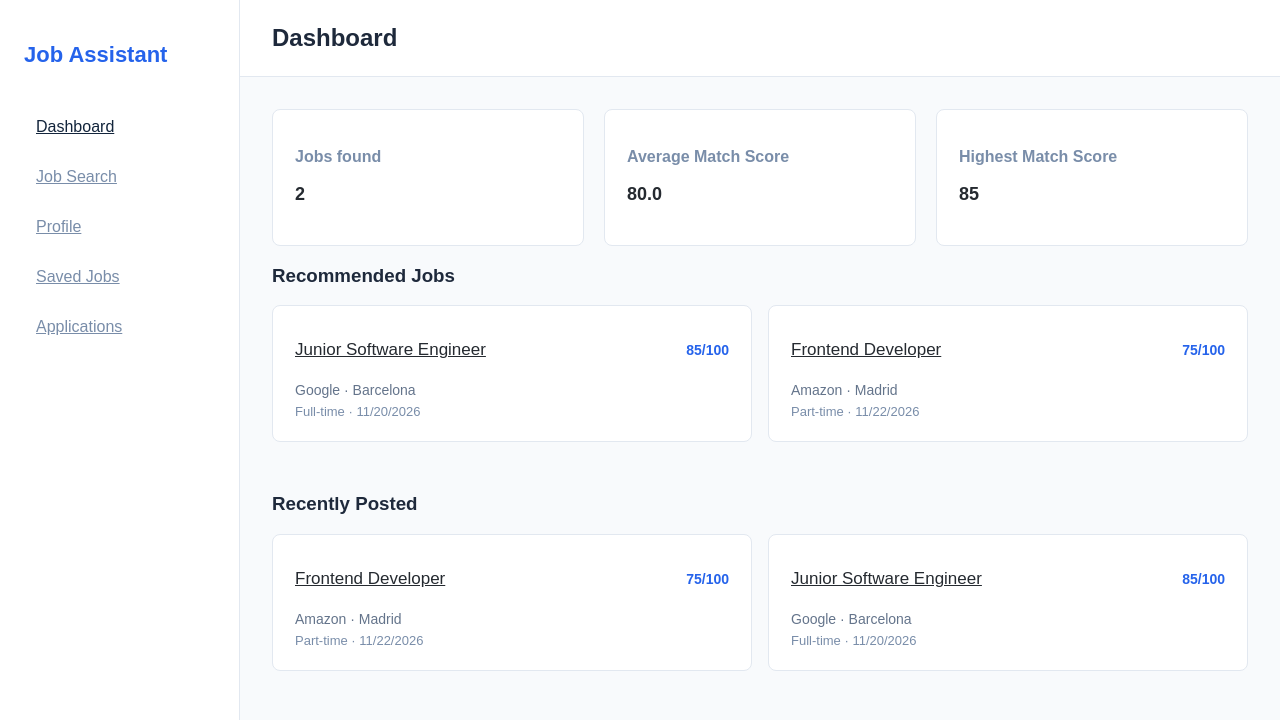
Test: App › navigates to the Profile page
Click the link "Profile".
click(59, 227)  # box [36,218,81,235]
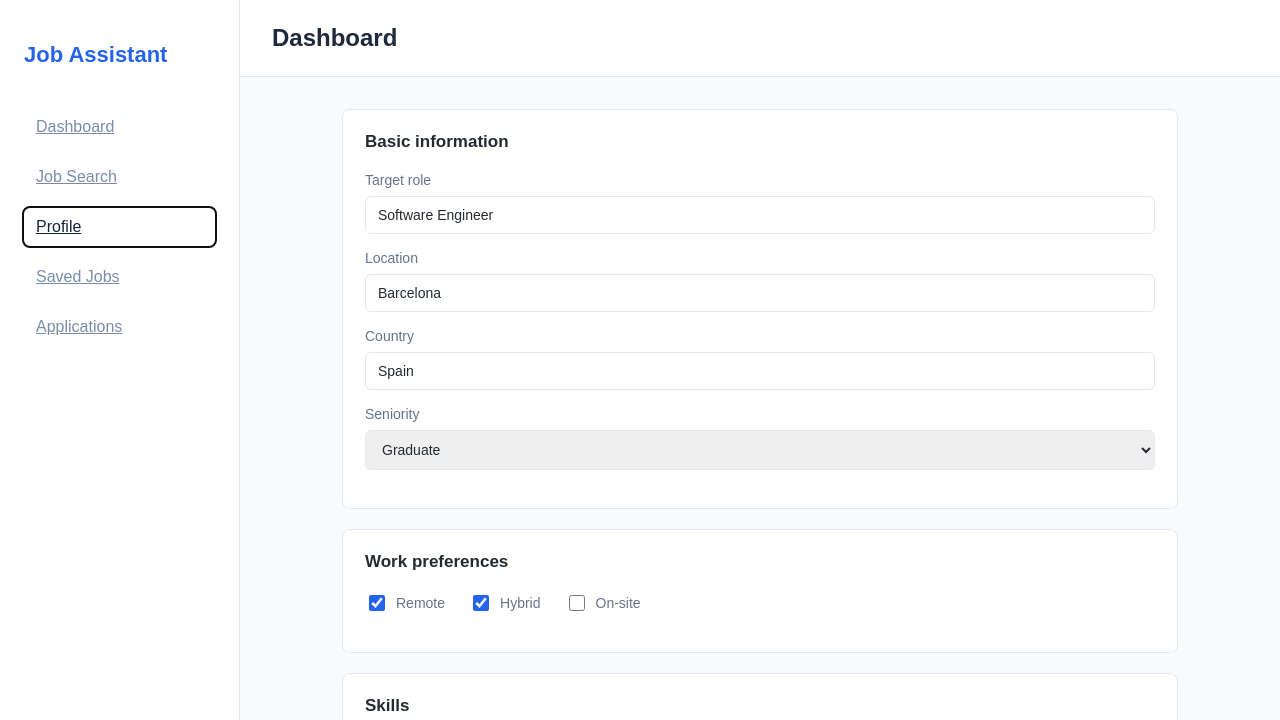
Expected: the field showing "Software Engineer" is shown, [365,196,1155,234]
Expected: the field showing "Barcelona" is shown, [365,274,1155,312]
